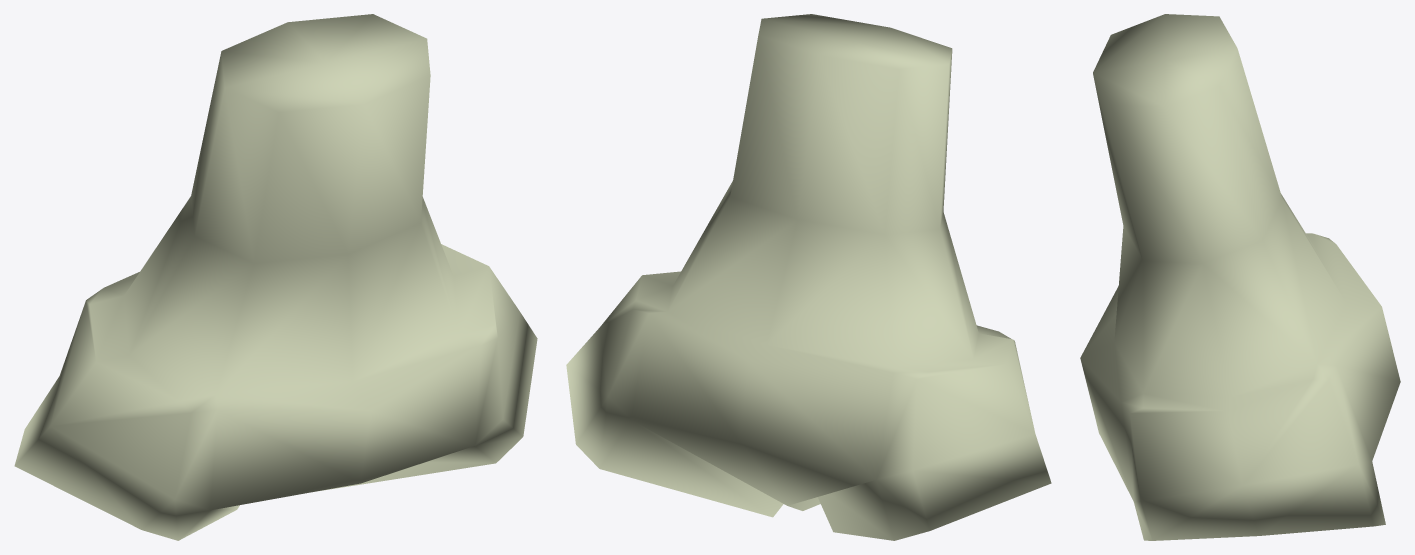
The model's file is anime_robot_lower_torso.dae.
The picture shows the model from 3 angles, left to right: view 1: azimuth 30°, elevation 25°; view 2: azimuth 150°, elevation 25°; view 3: azimuth 270°, elevation 25°; orthographic projection. The views are drawn at different scales.
Visible parts, largest first — view 1: Cube5-0; view 2: Cube5-0; view 3: Cube5-0.
Boxes of the visible parts, left/top/right/bottom form: Cube5-0: left=14, top=14, right=537, bottom=540; Cube5-0: left=566, top=14, right=1051, bottom=540; Cube5-0: left=1080, top=14, right=1400, bottom=540.
Bounding box in the file's own units: 2.87 × 2.58 × 1.61.
